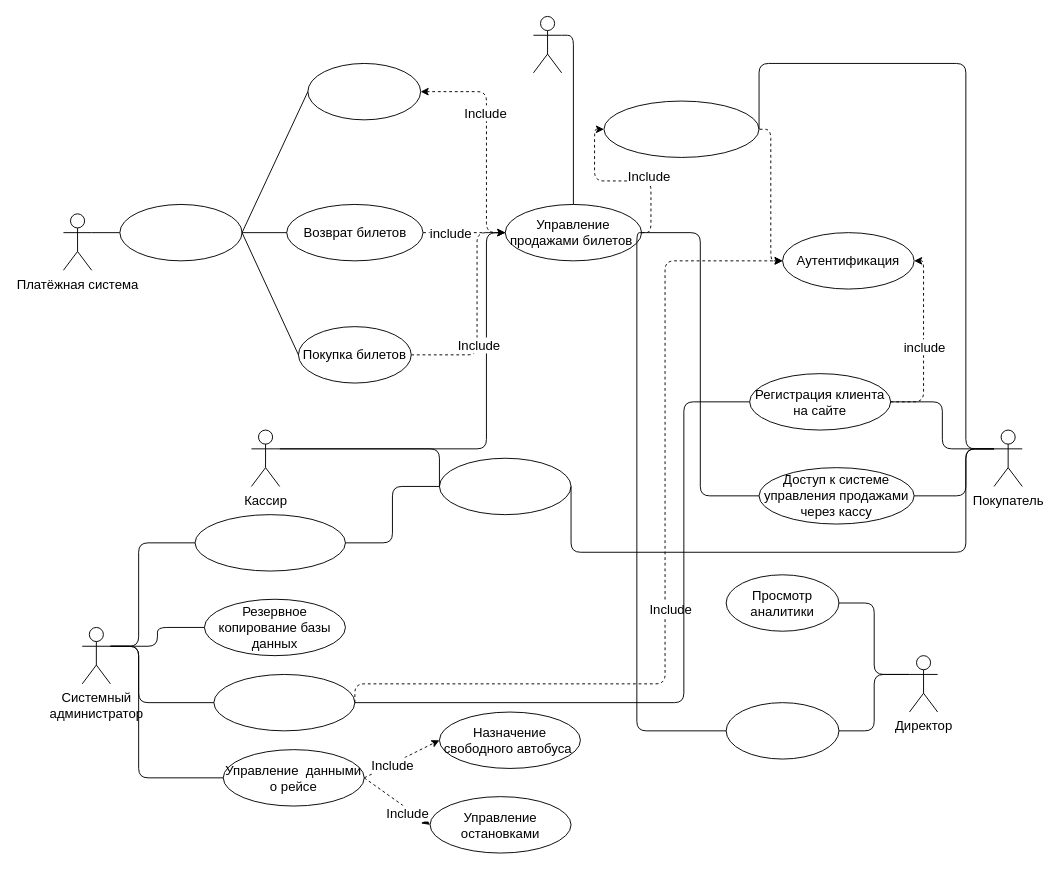
Some shapes in this 1059 by 870 pixel diagram are drawn without their labels. Here are the shapes that lost their labels. From the top down, the box of each, then its label:
(533, 16, 562, 73): Система
(307, 63, 421, 120): Продажа билетов
(603, 100, 759, 157): Доступ к системе управления продажами через сайт
(119, 204, 242, 261): Регистрация оплаты
(439, 457, 571, 515): Просмотр расписания
(194, 514, 345, 571): Управление расписания, цен, списка автобусов
(213, 674, 355, 731): Управление учетными записями
(725, 702, 839, 759): Формирование отчетности
